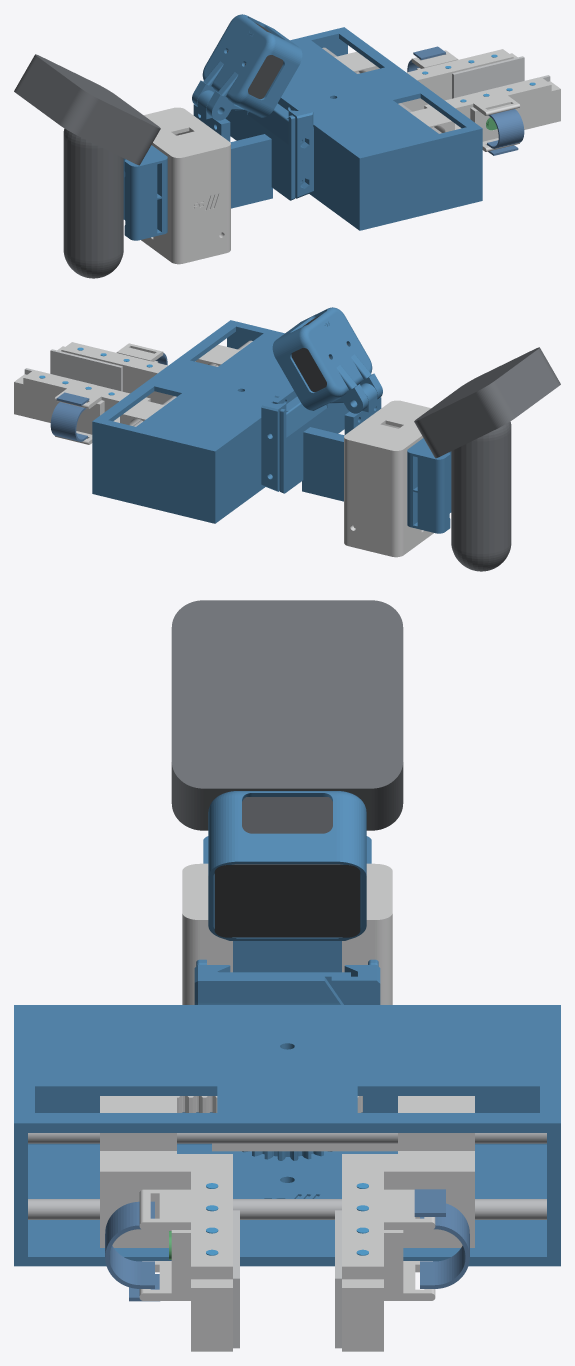
Rendered from parallel_right.glb.
The picture shows the model from 3 angles, top to bottom: view 1: azimuth 30°, elevation 25°; view 2: azimuth 150°, elevation 25°; view 3: azimuth 270°, elevation 25°; orthographic projection. The views are drawn at different scales.
Parts seen in each view (by area): view 1: parallel_base_dc, quest_controller_envelope, ebox, d405_cup, d405_frame, parallel_finger_right_button, quest_cradle, parallel_finger_left_sleeve, parallel_pad_left, parallel_strap_right, d405_envelope, parallel_carriage_right (+3 smaller); view 2: parallel_base_dc, quest_controller_envelope, ebox, d405_cup, d405_frame, parallel_finger_left_sleeve, quest_cradle, parallel_finger_right_button, parallel_pad_right, chopstick_clip_dc, parallel_strap_left, d405_envelope (+3 smaller); view 3: parallel_base_dc, quest_controller_envelope, parallel_finger_right_button, parallel_finger_left_sleeve, d405_envelope, d405_cup, ebox, parallel_rod_bottom, parallel_carriage_left, parallel_rod_top, d405_frame, parallel_carriage_right (+5 smaller).
Part boxes in pixels (x1,y1,x2,y2): parallel_base_dc: (225,27,482,230); quest_controller_envelope: (14,54,160,278); ebox: (144,107,230,260); d405_cup: (192,14,302,120); d405_frame: (193,90,295,208); parallel_finger_right_button: (424,77,560,151); quest_cradle: (123,145,167,240); parallel_finger_left_sleeve: (379,49,517,111); parallel_pad_left: (452,56,524,98); parallel_strap_right: (487,109,524,155); d405_envelope: (227,22,283,99); parallel_carriage_right: (410,107,454,132); parallel_base_dc: (92,320,349,523); quest_controller_envelope: (414,347,560,571); ebox: (344,400,430,553); d405_cup: (272,307,382,413); d405_frame: (279,383,381,501); parallel_finger_left_sleeve: (14,370,150,444); quest_cradle: (407,438,451,533); parallel_finger_right_button: (57,342,195,404); parallel_pad_right: (50,349,122,391); chopstick_clip_dc: (261,397,286,491); parallel_strap_left: (50,392,89,441); d405_envelope: (291,315,347,392); parallel_base_dc: (14,965,560,1266); quest_controller_envelope: (171,600,403,830); parallel_finger_right_button: (100,1151,232,1351); parallel_finger_left_sleeve: (342,1151,474,1351); d405_envelope: (214,797,360,937); d405_cup: (208,791,366,940); ebox: (182,863,392,1004); parallel_rod_bottom: (28,1199,546,1219); parallel_carriage_left: (212,1096,474,1151); parallel_rod_top: (28,1133,546,1143); d405_frame: (196,941,378,972); parallel_carriage_right: (100,1096,362,1150).
Size of the model in its own units: 0.3243 by 0.1316 by 0.156.
